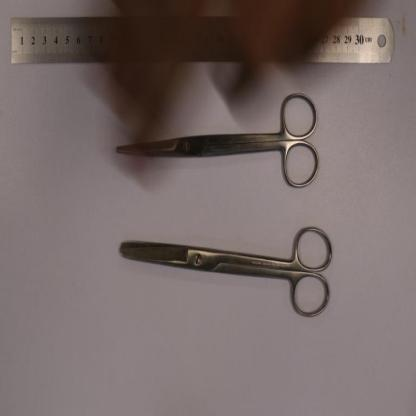Curved Mayo Scissors: (115, 90, 321, 188)
Dressing Scissors: (119, 224, 334, 322)
